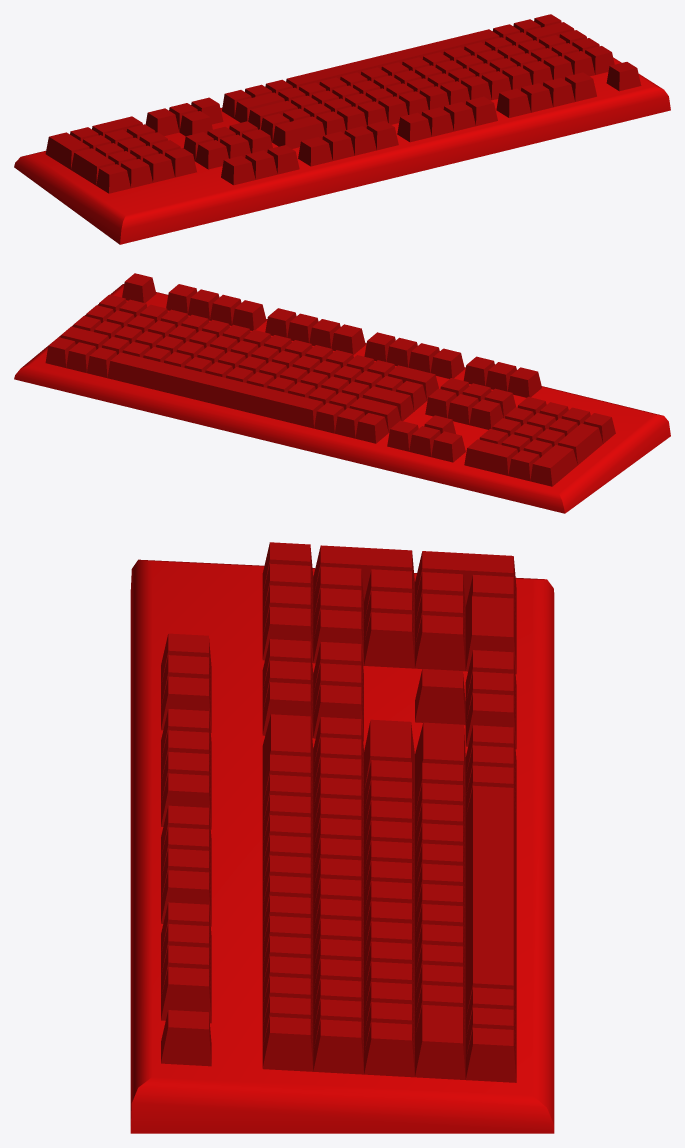
The model's file is Computer Keyboard.fbx.
3 views of the same model, one above another, from view 1: azimuth 30°, elevation 25°; view 2: azimuth 150°, elevation 25°; view 3: azimuth 270°, elevation 25° (orthographic). The views are drawn at different scales.
Visible parts, largest first — view 1: Computer Keyboard; view 2: Computer Keyboard; view 3: Computer Keyboard.
Part boxes in pixels (x1,y1,x2,y2): Computer Keyboard: (14, 14, 670, 244); Computer Keyboard: (14, 273, 670, 513); Computer Keyboard: (130, 542, 554, 1133).
Size of the model in its own units: 107 by 35.57 by 7.67.
